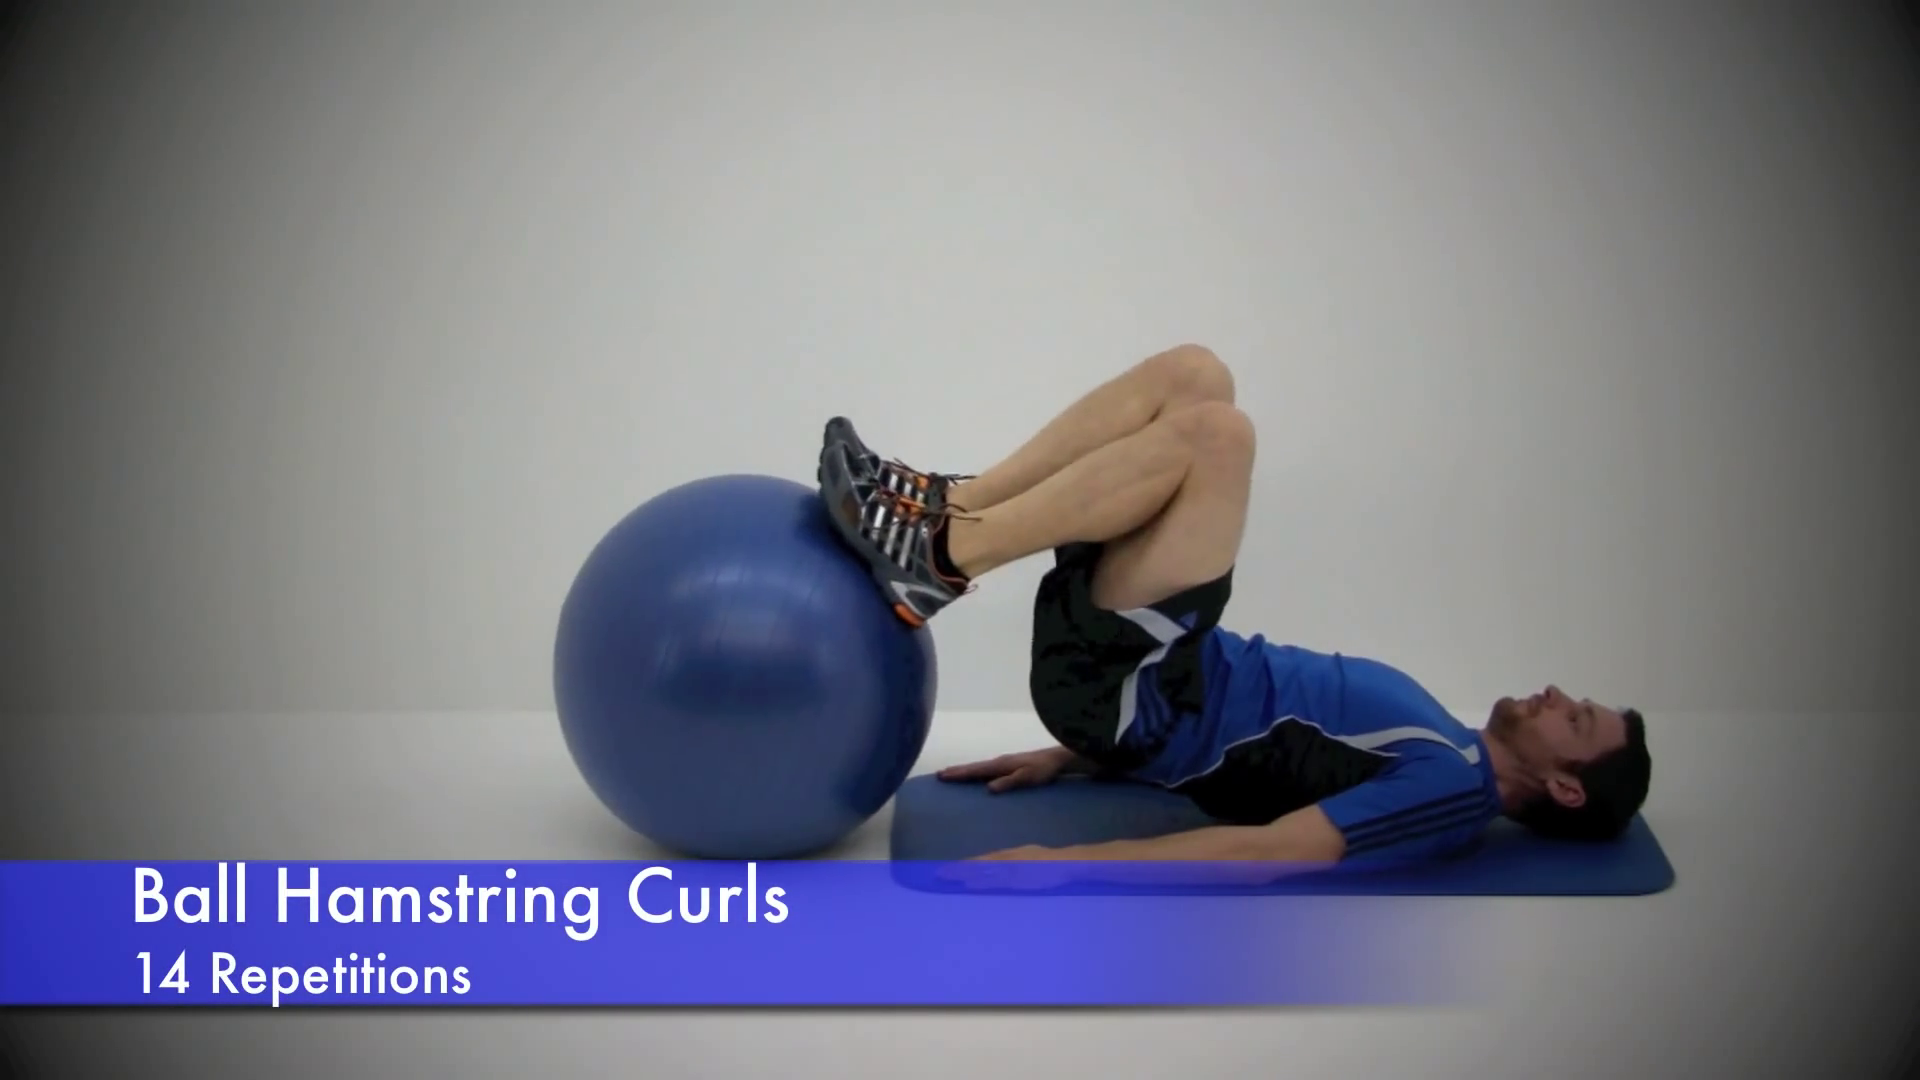yogaball: (535, 460, 951, 873)
